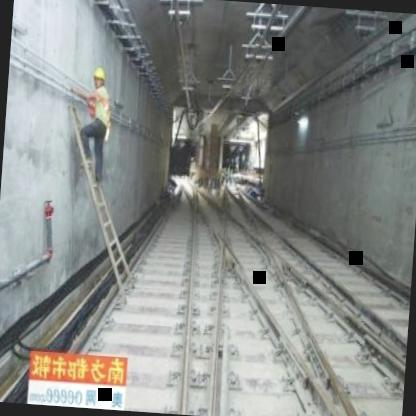helmet: (90, 64, 107, 92)
